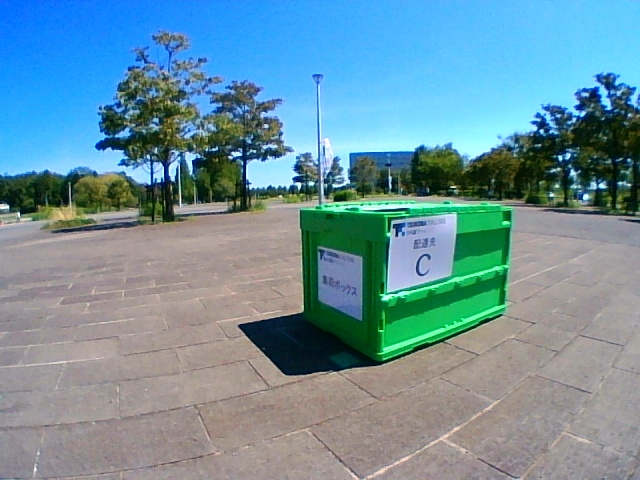green_box: (300, 201, 511, 361)
tag_c: (403, 234, 445, 277)
